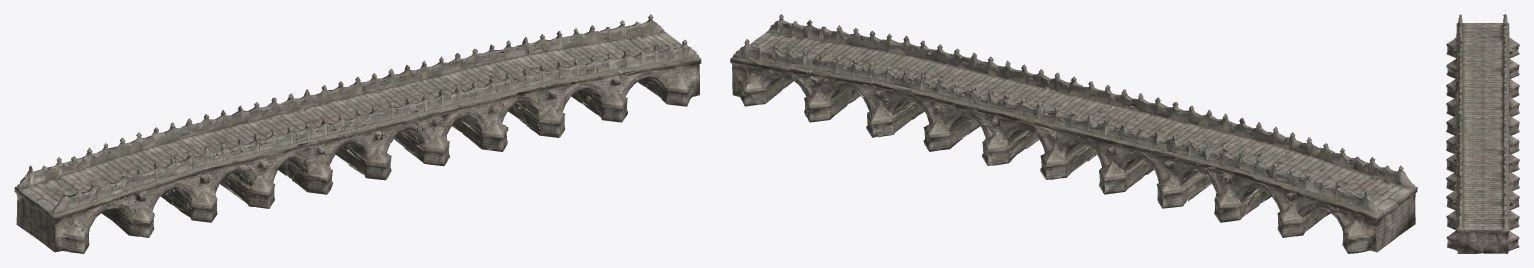
Rendered from taiping_bridge.glb.
3 renders of one model, left to right at view 1: azimuth 30°, elevation 25°; view 2: azimuth 150°, elevation 25°; view 3: azimuth 270°, elevation 25°, orthographic. The views are drawn at different scales.
Parts seen in each view (by area): view 1: Mesh_0; view 2: Mesh_0; view 3: Mesh_0.
Boxes of the visible parts, bbox=[...] form: Mesh_0: bbox=[14, 14, 701, 253]; Mesh_0: bbox=[730, 14, 1417, 253]; Mesh_0: bbox=[1446, 14, 1519, 253].
Size of the model in its own units: 1.9 by 0.1912 by 0.2865.
Materials: 1 (1 with a texture image).
